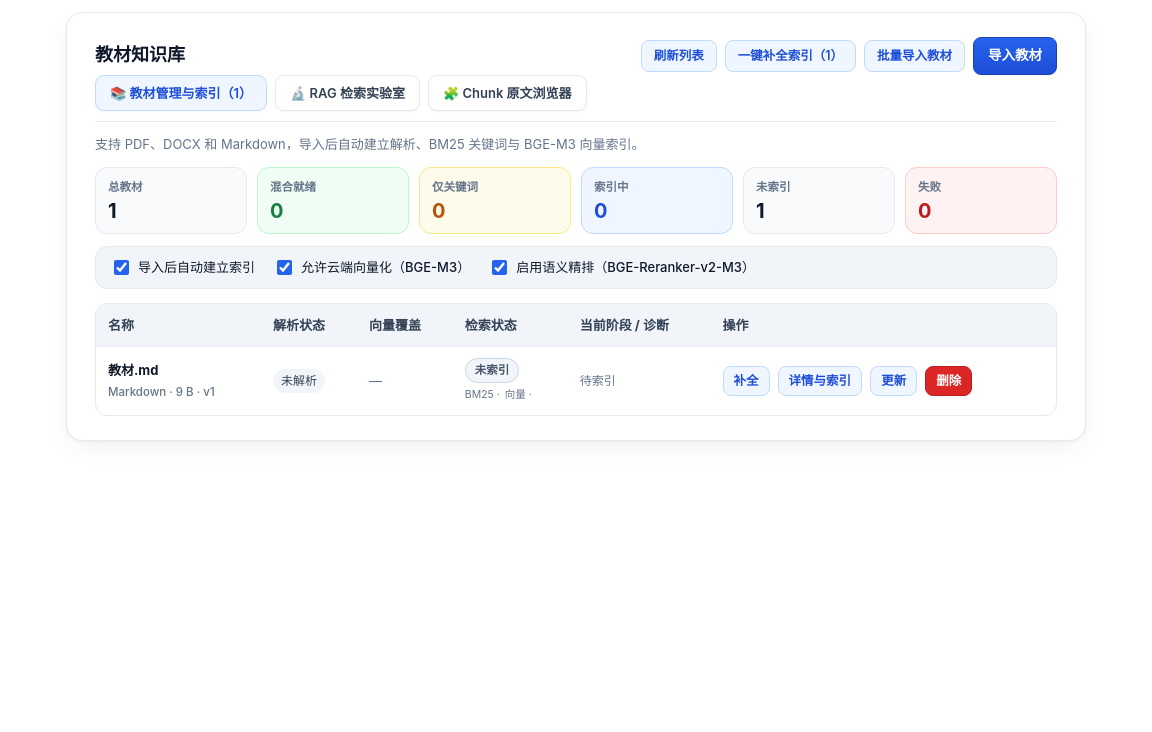
Test: opens Retrieval Lab tab, runs debug-search without DeepSeek, and renders trace, candidates, rerank score, and warnings
Expected: the column heading "教材.md Markdown · 9 B · v1" is shown, [96,347,261,415]
Click the tab "🔬 RAG 检索实验室": (347, 93) [275,75,420,111]
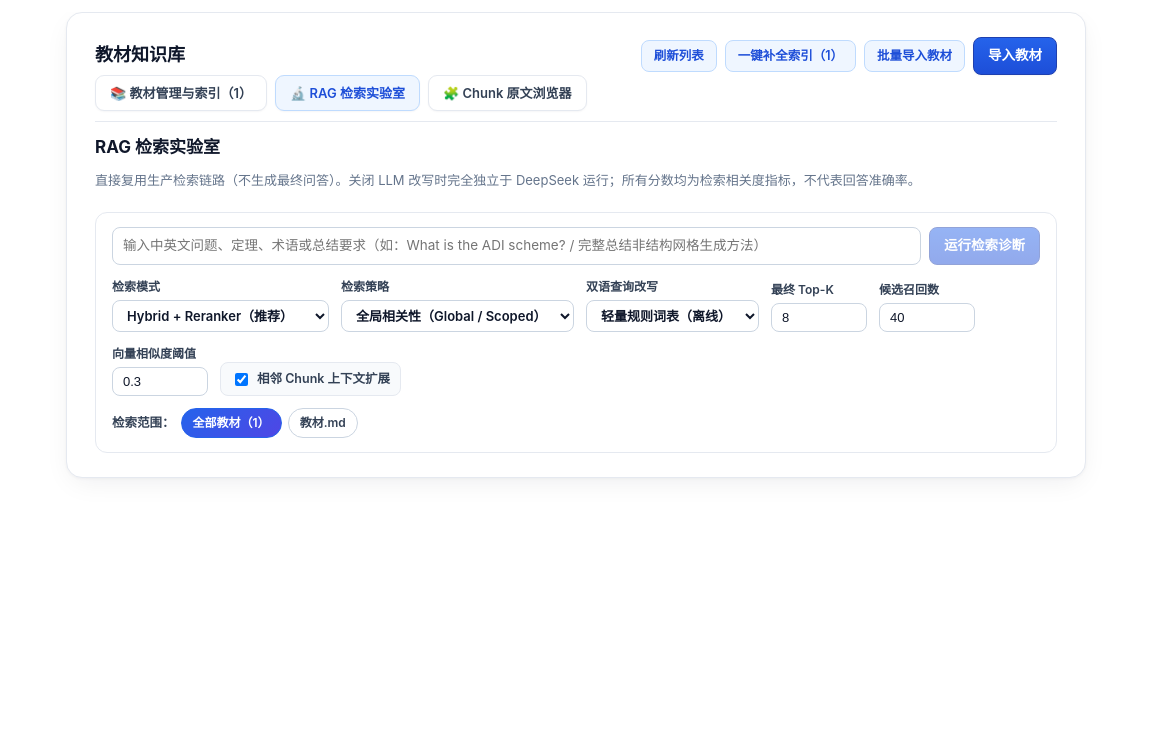
Replace the text in the search field named "输入检索实验室问题" with "最大似然估计": (516, 246) [112,227,921,265]
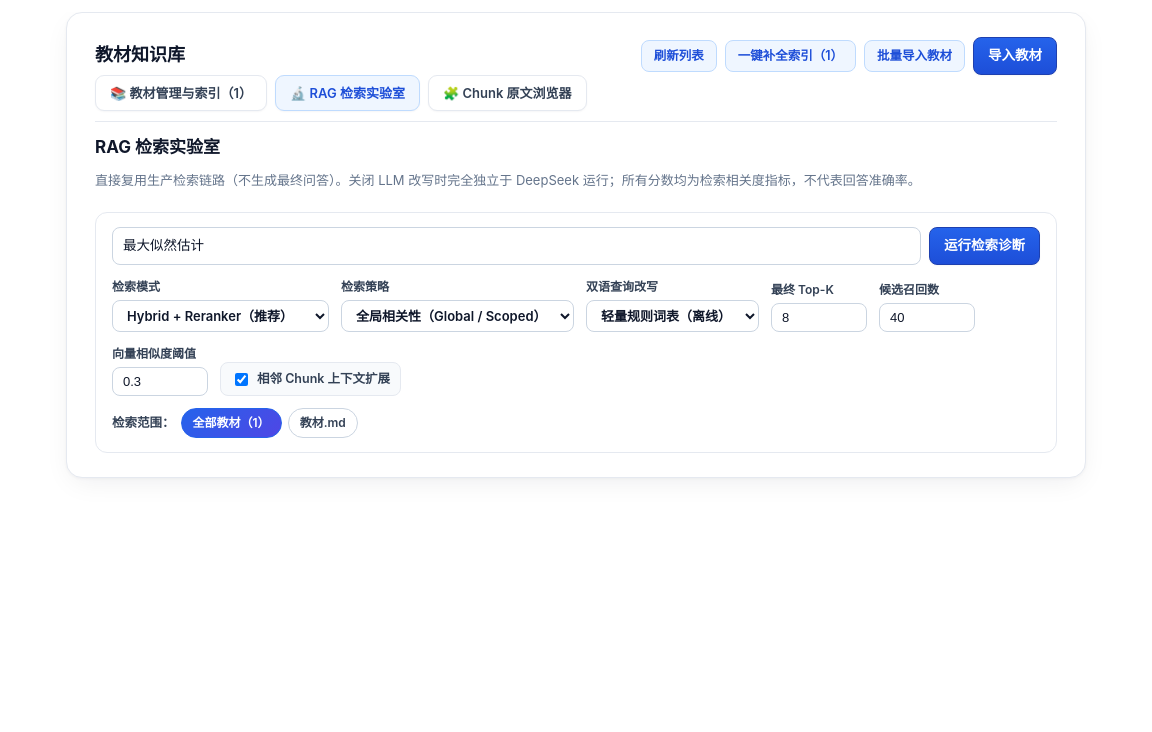
Click the button "运行检索诊断": (984, 246) [929,227,1040,265]
(page scrolled)
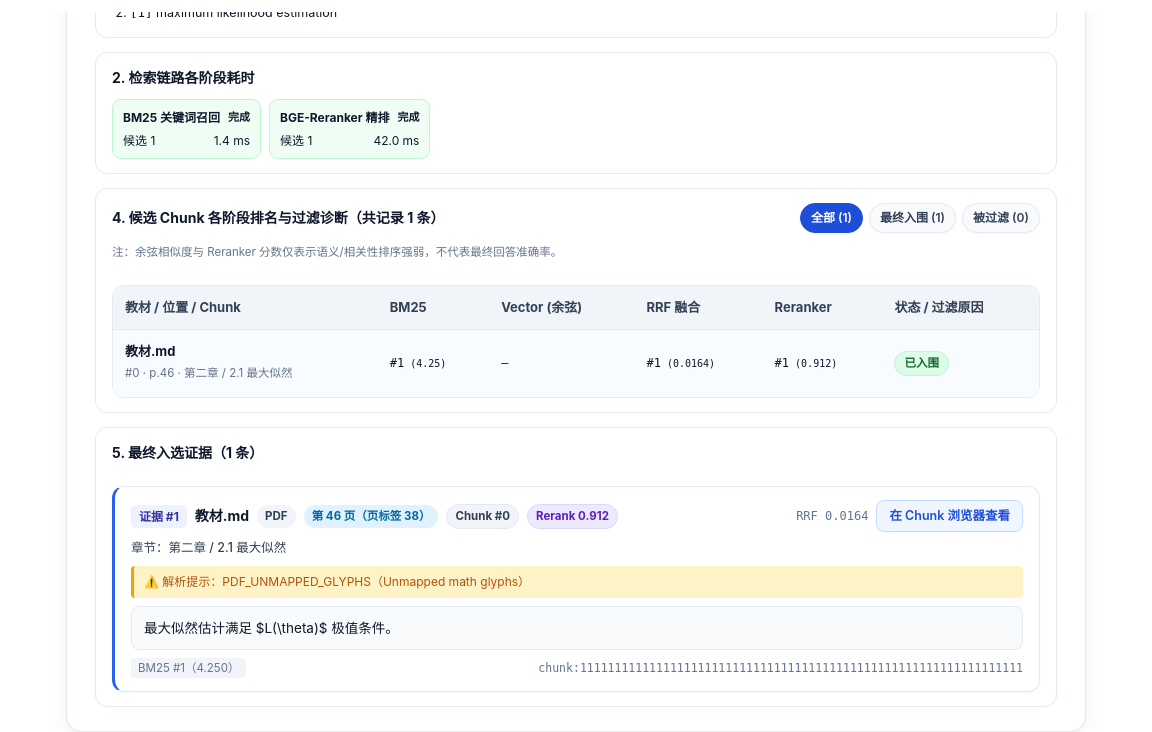
Now the text "第 46 页（页标签 38）" is shown, box [304,505,438,528]
Now the text "Rerank 0.912" is shown, box [527,504,618,529]
Now the text "章节：第二章 / 2.1 最大似然" is shown, box [131,540,286,555]
